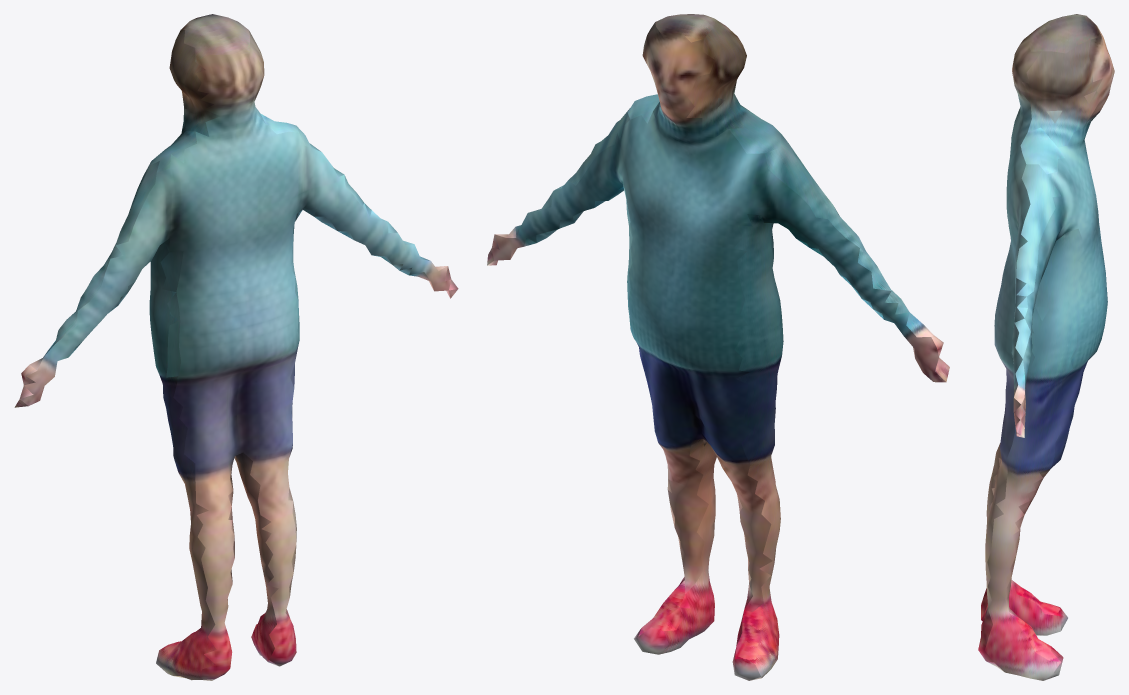
The picture shows the model from 3 angles, left to right: view 1: azimuth 30°, elevation 25°; view 2: azimuth 150°, elevation 25°; view 3: azimuth 270°, elevation 25°; orthographic projection. The views are drawn at different scales.
Visible parts, largest first — view 1: world; view 2: world; view 3: world.
Boxes of the visible parts, <box> form: world: <box>14,14,458,680</box>; world: <box>487,14,949,680</box>; world: <box>978,14,1114,680</box>.
Size of the model in its own units: 0.7378 by 1.01 by 0.1964.
Materials: 1 (1 with a texture image).
